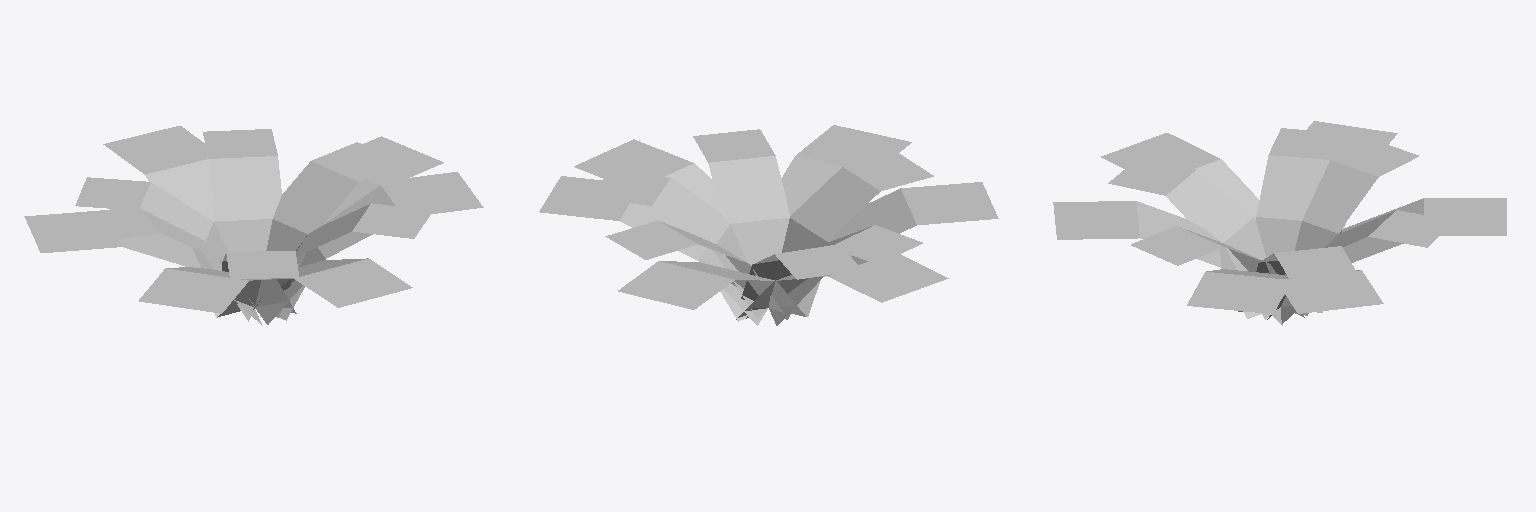
The model's file is Fern.obj.
The picture shows the model from 3 angles: view 1: azimuth 30°, elevation 25°; view 2: azimuth 150°, elevation 25°; view 3: azimuth 270°, elevation 25°; orthographic projection.
Visible parts, largest first — view 1: pPlane14; view 2: pPlane14; view 3: pPlane14.
Boxes of the visible parts, <box> form: pPlane14: <box>24,126,483,325</box>; pPlane14: <box>539,125,998,325</box>; pPlane14: <box>1053,121,1506,325</box>.
Size of the model in its own units: 1.54 by 0.3831 by 1.53.